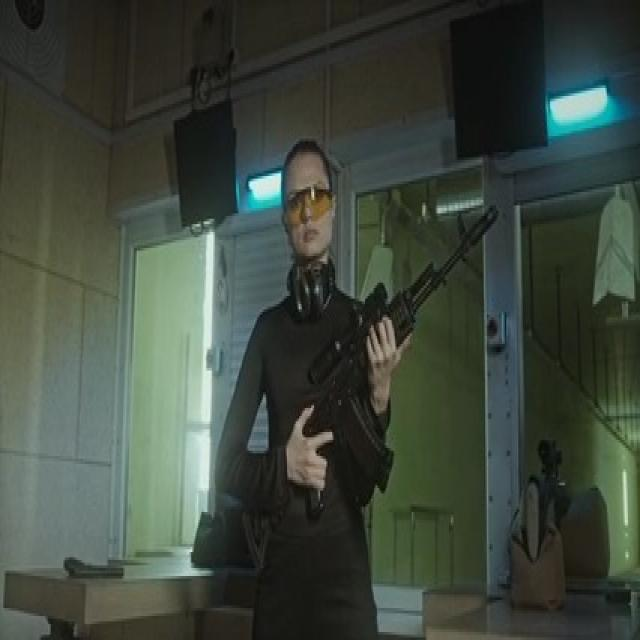Gun_Holder: (256, 218, 510, 539)
Person: (212, 137, 404, 640)
